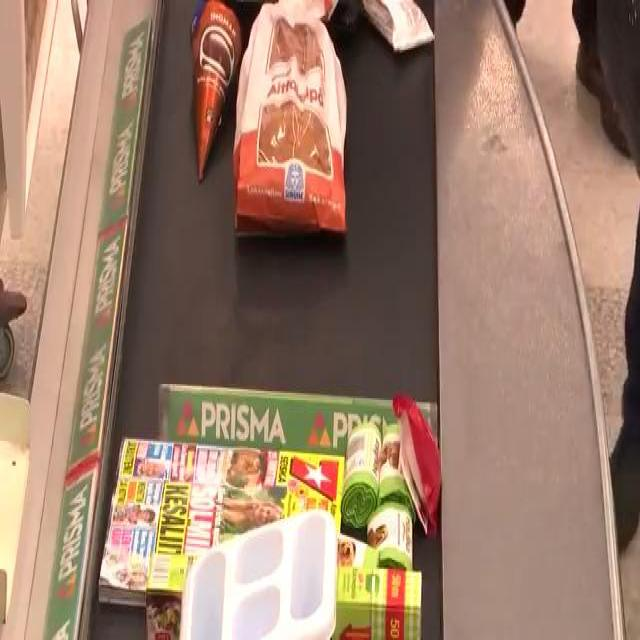food-box: (236, 0, 350, 244), (188, 0, 241, 187), (358, 0, 442, 48)
utility-box: (98, 450, 346, 606), (179, 508, 339, 640), (142, 538, 241, 640), (324, 569, 428, 640), (359, 500, 418, 577), (348, 415, 380, 534), (382, 423, 418, 512)
